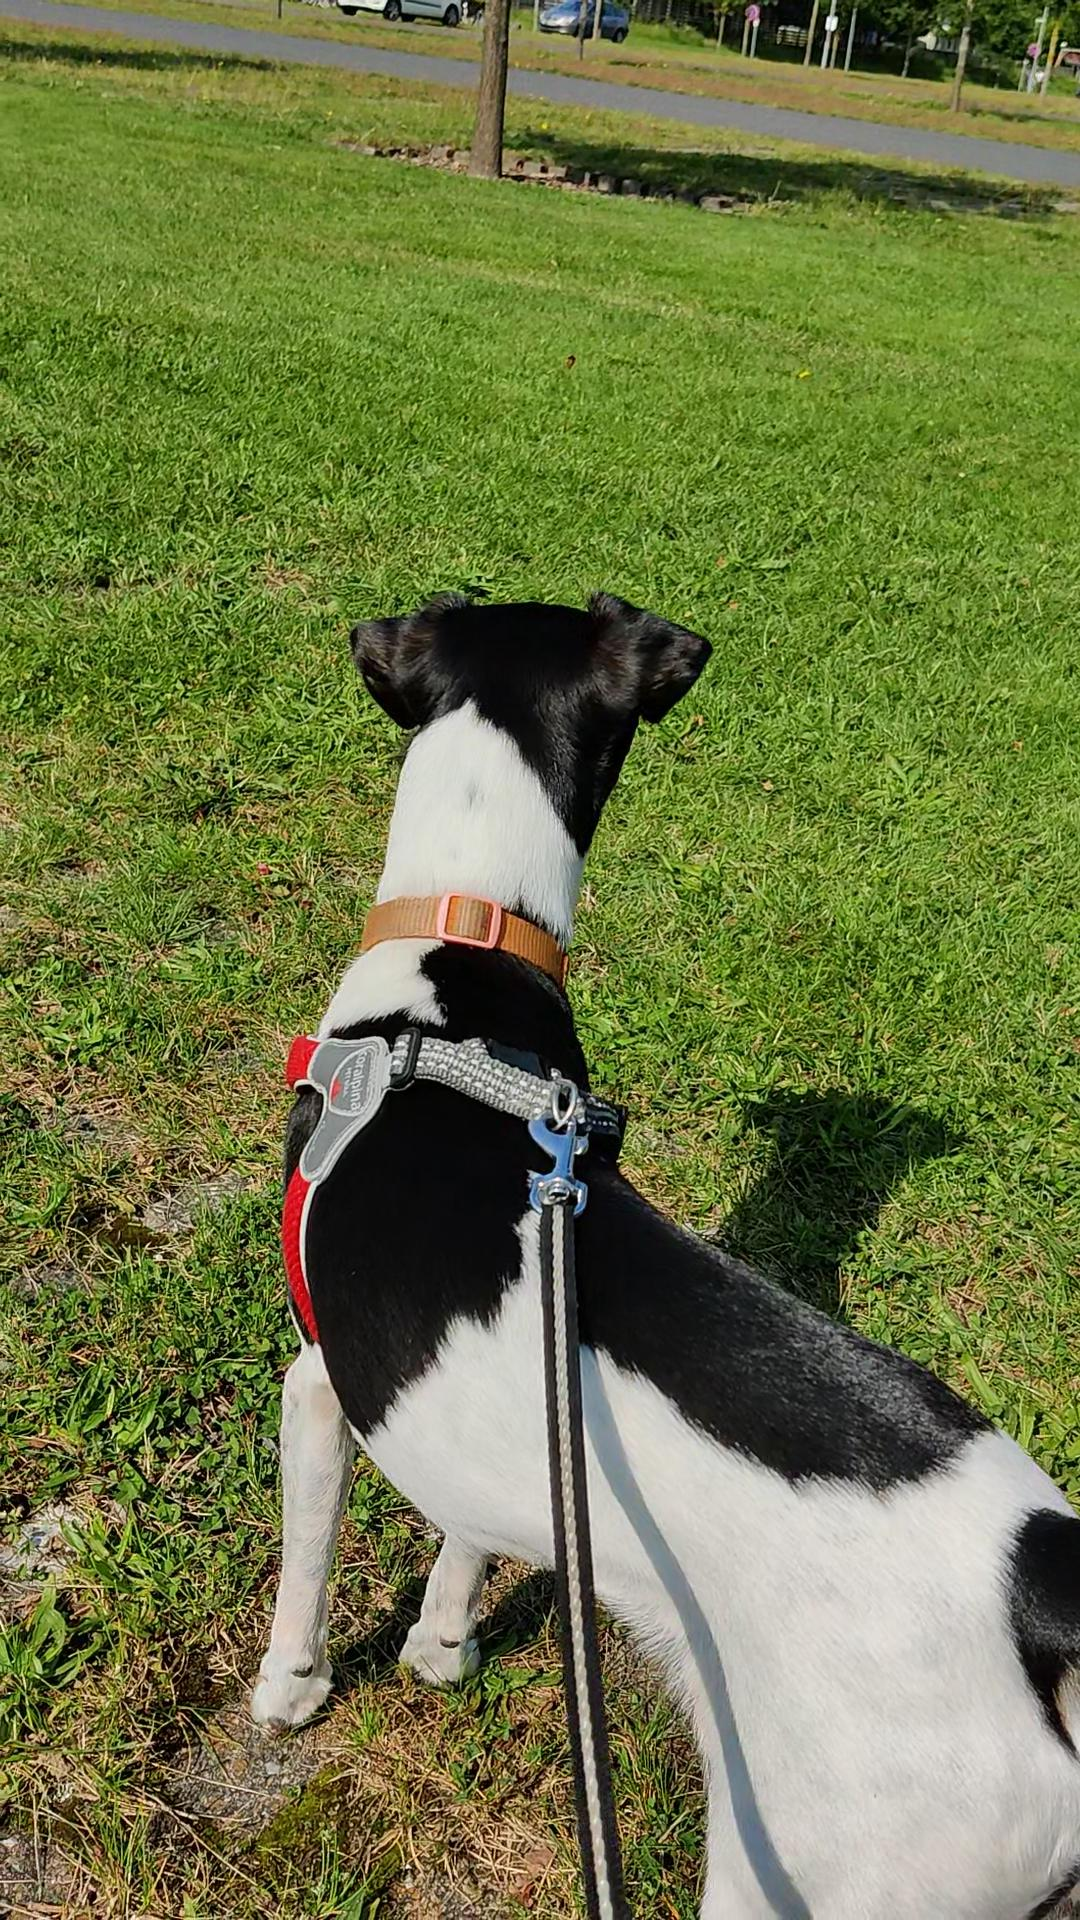Dog: (222, 559, 1079, 1919)
